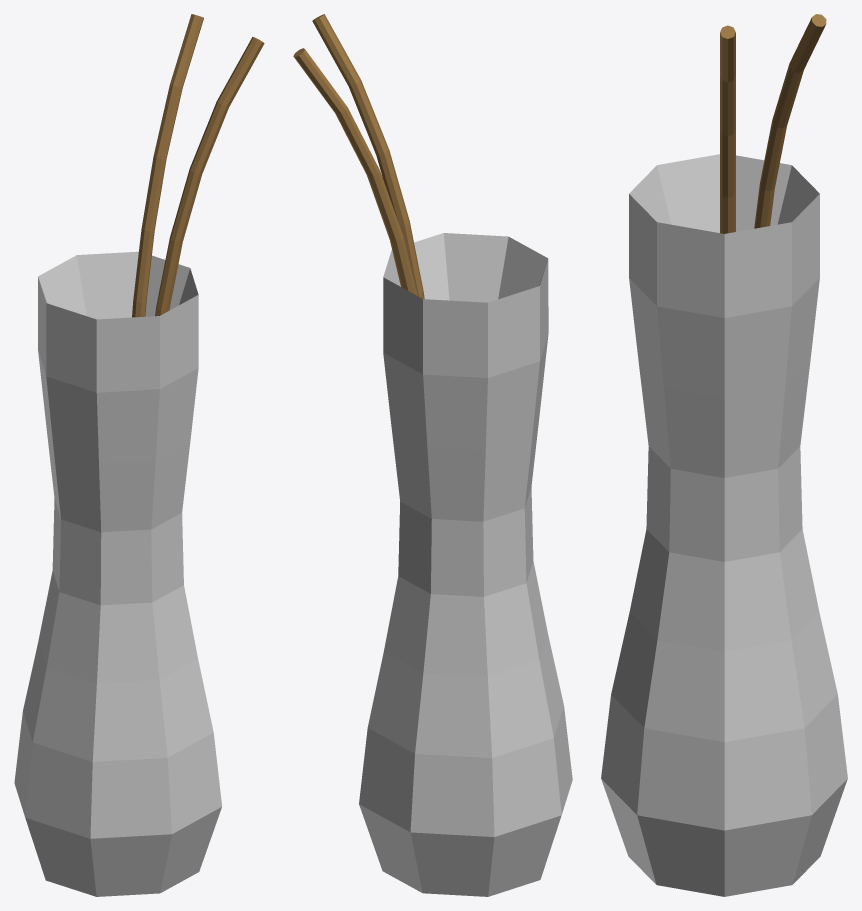
Rendered from vase.fbx.
3 renders of one model, left to right at view 1: azimuth 30°, elevation 25°; view 2: azimuth 150°, elevation 25°; view 3: azimuth 270°, elevation 25°, orthographic. The views are drawn at different scales.
Visible parts, largest first — view 1: vase, twig_2, twig_1; view 2: vase, twig_1, twig_2; view 3: vase, twig_2, twig_1.
Boxes of the visible parts, box(x1,y1,x2,y2) form: vase: box(14, 251, 221, 896); twig_2: box(132, 14, 203, 317); twig_1: box(155, 36, 264, 316); vase: box(359, 233, 572, 896); twig_1: box(312, 14, 424, 299); twig_2: box(293, 48, 417, 295); vase: box(601, 154, 847, 896); twig_2: box(754, 14, 826, 228); twig_1: box(720, 25, 735, 233).
Bounding box in the file's own units: 47.33 × 149 × 36.75.
